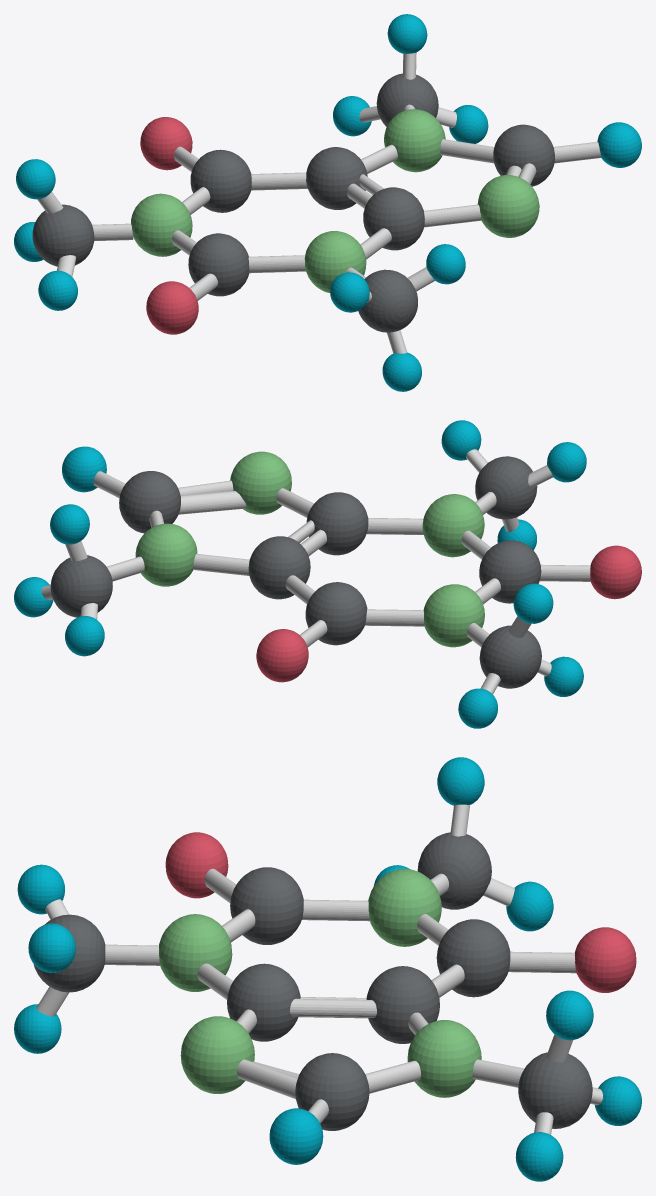
File: Caffeine.glb
The picture shows the model from 3 angles, top to bottom: view 1: azimuth 30°, elevation 25°; view 2: azimuth 150°, elevation 25°; view 3: azimuth 270°, elevation 25°; orthographic projection. The views are drawn at different scales.
Parts seen in each view (by area): view 1: Mesh_Mesh_head_geo.001_lambert2SG.001; view 2: Mesh_Mesh_head_geo.001_lambert2SG.001; view 3: Mesh_Mesh_head_geo.001_lambert2SG.001.
Boxes of the visible parts, x1,y1,x2,y2 form: Mesh_Mesh_head_geo.001_lambert2SG.001: (14,14,641,391); Mesh_Mesh_head_geo.001_lambert2SG.001: (14,420,641,728); Mesh_Mesh_head_geo.001_lambert2SG.001: (14,757,641,1181).
Bounding box in the file's own units: 55.32 × 15.04 × 44.77.
